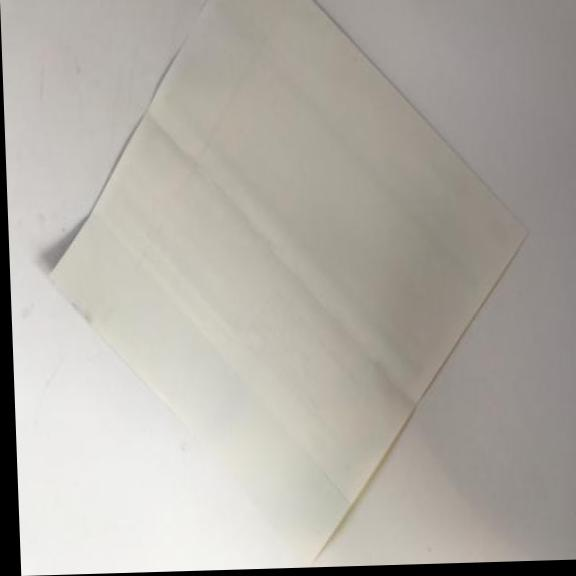Kertas: (35, 0, 544, 569)
